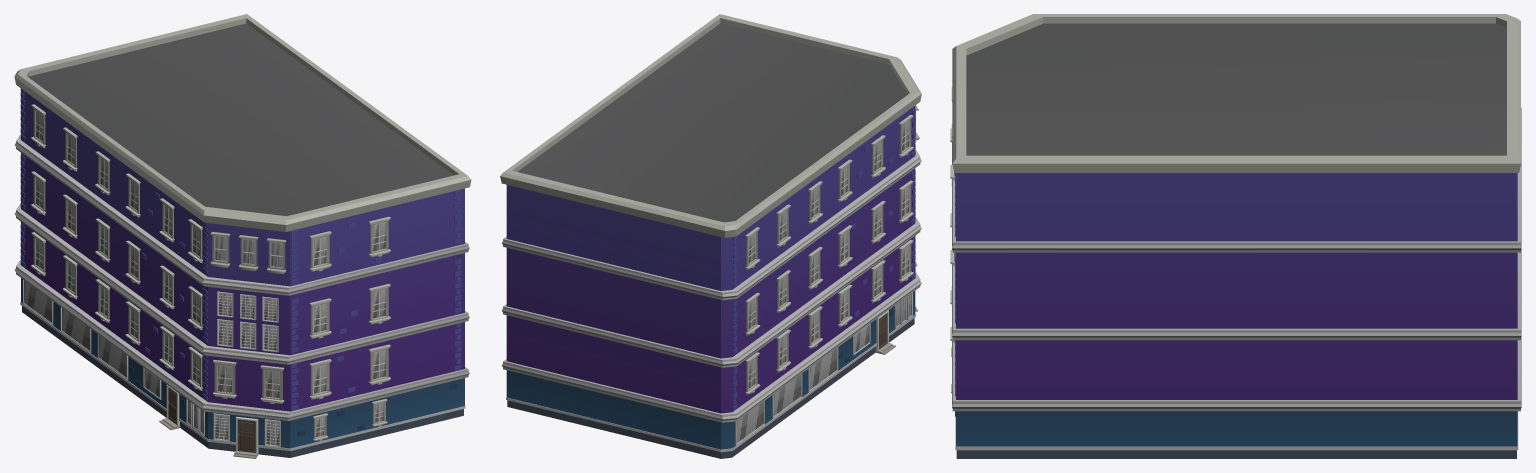
The model's file is Building_25_9_E.glb.
3 views of the same model, side by side, from view 1: azimuth 30°, elevation 25°; view 2: azimuth 150°, elevation 25°; view 3: azimuth 270°, elevation 25° (orthographic). The views are drawn at different scales.
Parts seen in each view (by area): view 1: Building_25_9_E; view 2: Building_25_9_E; view 3: Building_25_9_E.
Part boxes in pixels (x1,y1,x2,y2): Building_25_9_E: [14, 14, 471, 458]; Building_25_9_E: [500, 14, 921, 458]; Building_25_9_E: [950, 14, 1521, 458].
Size of the model in its own units: 16.83 by 15.96 by 27.29.
Materials: 3 (3 with a texture image).
